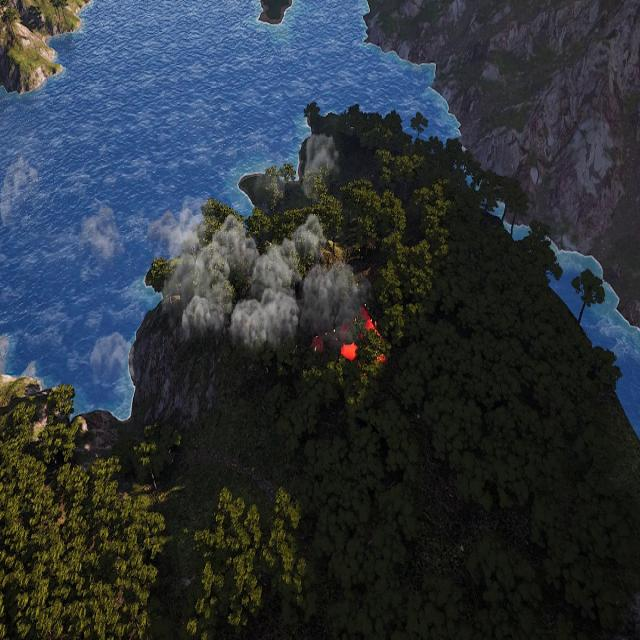fire: (342, 343, 357, 361)
smoke: (166, 205, 374, 353), (82, 205, 120, 263), (304, 134, 340, 194)
